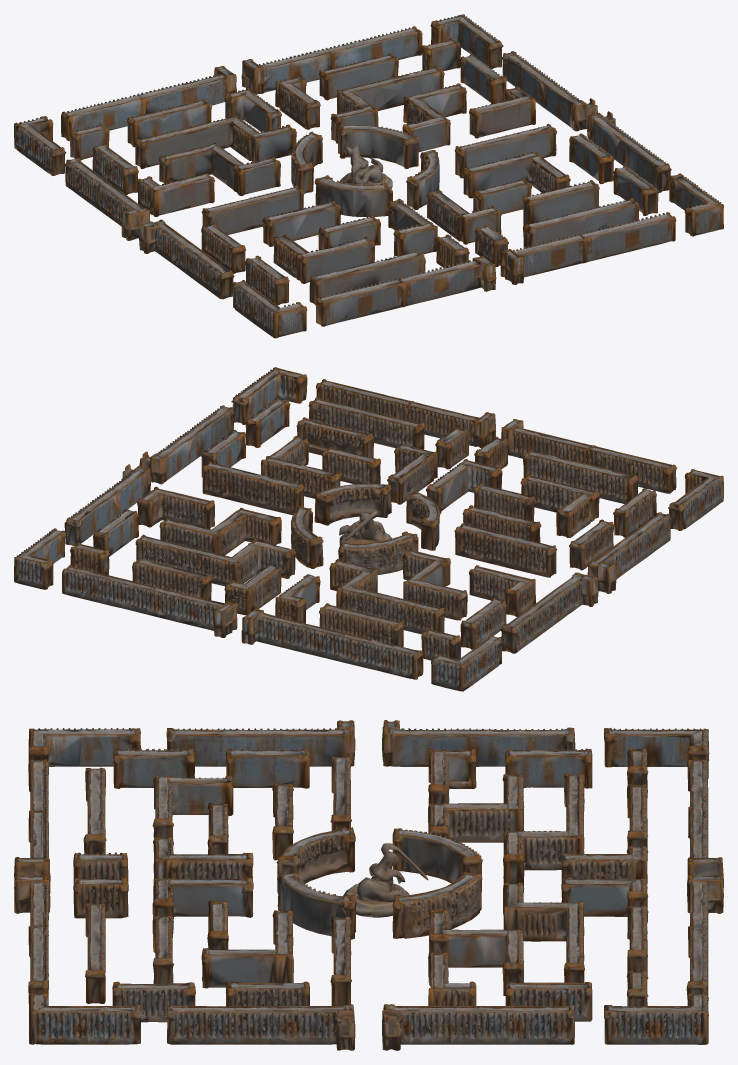
The model's file is maze.glb.
3 renders of one model, top to bottom at view 1: azimuth 30°, elevation 25°; view 2: azimuth 150°, elevation 25°; view 3: azimuth 270°, elevation 25°, orthographic. The views are drawn at different scales.
Visible parts, largest first — view 1: Mesh_0; view 2: Mesh_0; view 3: Mesh_0.
Boxes of the visible parts, x1,y1,x2,y2 form: Mesh_0: [14, 14, 723, 338]; Mesh_0: [14, 367, 723, 691]; Mesh_0: [14, 720, 723, 1050].
Size of the model in its own units: 148 by 11.85 by 149.
1 material, 1 textured.
